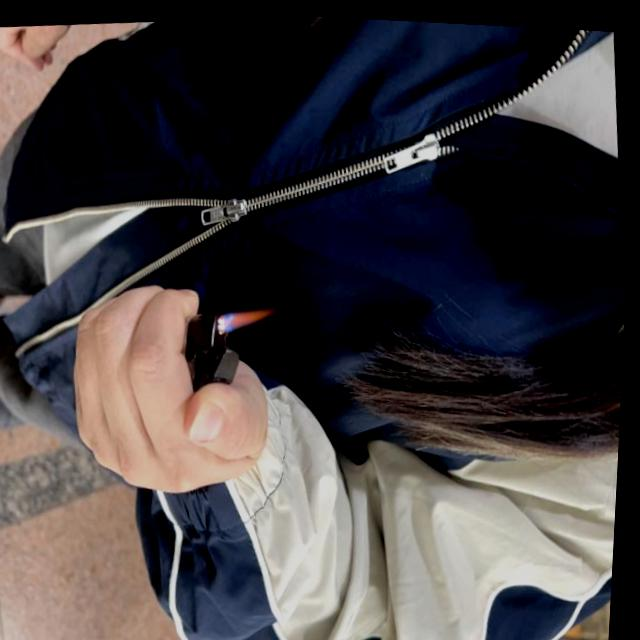helmet: (222, 300, 281, 330)
